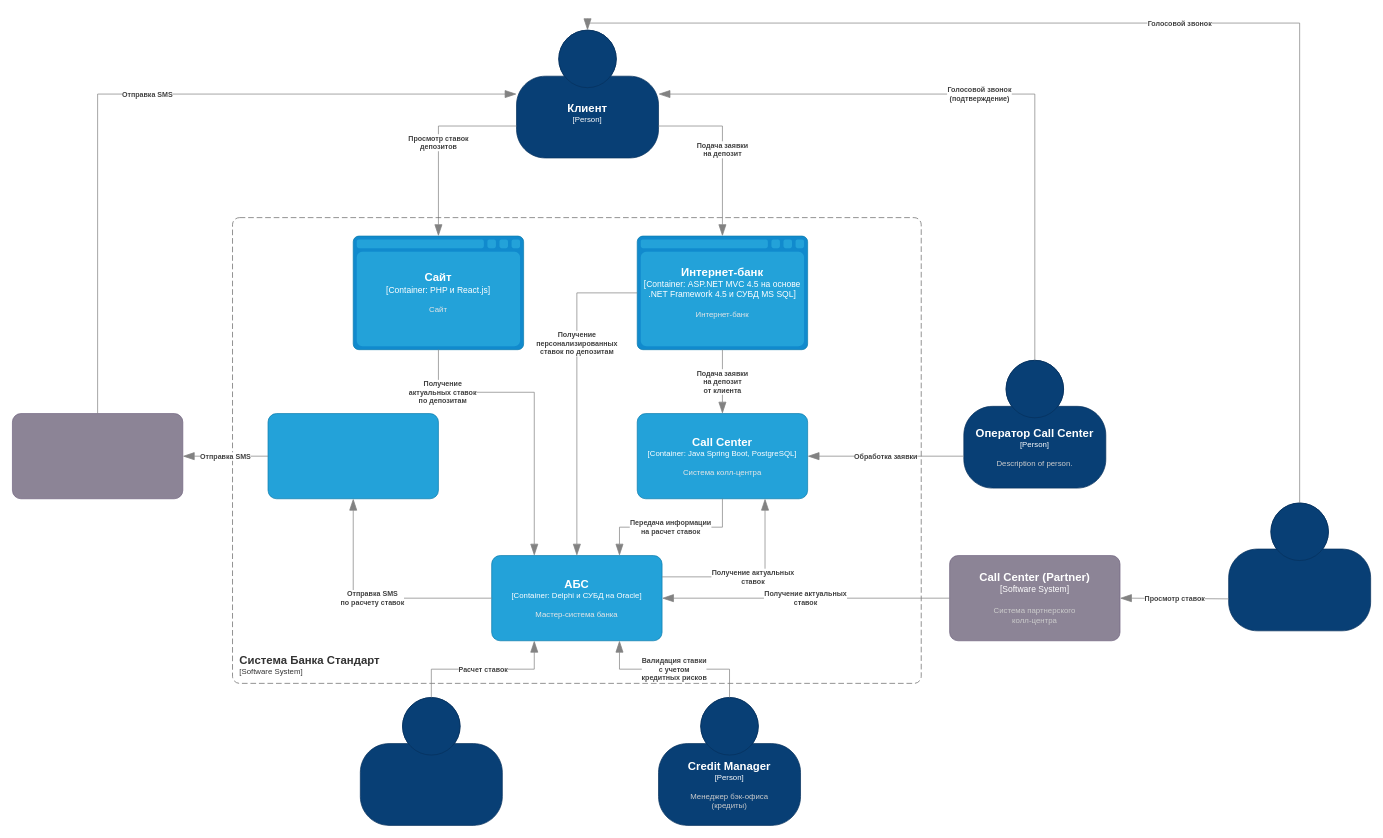
Image size: 1383x838. Some labels were removed from this diagram. Here are the shapes that lost their labels. From the top down, the box of each, then its label:
(12, 413, 183, 499): Телеком-оператор [Software System] Система Телеком-оператора по отправке SMS
(267, 413, 438, 499): СМС-шлюз [Container: ] Шлюз по отправке SMS
(1228, 502, 1371, 631): Оператор партнера [Person] Description of person.
(360, 697, 502, 825): Deposit Manager [Person] Менеджер бэк-офиса (депозиты)
